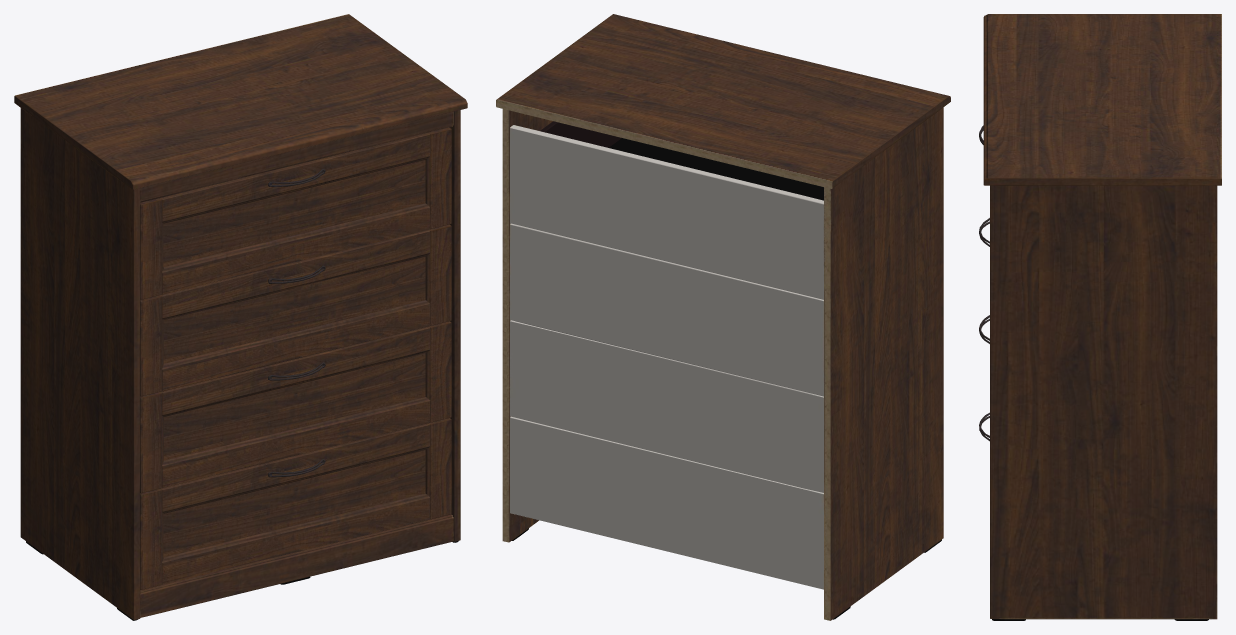
The model's file is SONGESAND 4-drawer chest.glb.
3 views of the same model, side by side, from view 1: azimuth 30°, elevation 25°; view 2: azimuth 150°, elevation 25°; view 3: azimuth 270°, elevation 25° (orthographic).
Parts seen in each view (by area): view 1: ASY_ART_40575802_S01_NV01, ASY_LPT04_40575802_S01_NV01, ASY_LPT01_40575802_S01_NV01, ASY_LPT03_40575802_S01_NV01, ASY_LPT02_40575802_S01_NV01; view 2: ASY_ART_40575802_S01_NV01, ASY_LPT04_40575802_S01_NV01; view 3: ASY_ART_40575802_S01_NV01.
Part boxes in pixels (<box>): ASY_ART_40575802_S01_NV01: <box>14,14,467,620</box>; ASY_LPT04_40575802_S01_NV01: <box>140,127,451,299</box>; ASY_LPT01_40575802_S01_NV01: <box>140,418,451,589</box>; ASY_LPT03_40575802_S01_NV01: <box>140,224,451,396</box>; ASY_LPT02_40575802_S01_NV01: <box>140,321,451,493</box>; ASY_ART_40575802_S01_NV01: <box>496,14,950,620</box>; ASY_LPT04_40575802_S01_NV01: <box>540,121,823,200</box>; ASY_ART_40575802_S01_NV01: <box>983,14,1221,620</box>.
Size of the model in its own units: 0.816 by 1.03 by 0.5099.
5 materials, 5 textured.
